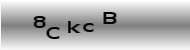8: (33, 15, 46, 28)
B: (102, 10, 118, 26)
C: (46, 26, 60, 40)
c: (82, 21, 95, 34)
k: (66, 20, 81, 34)
